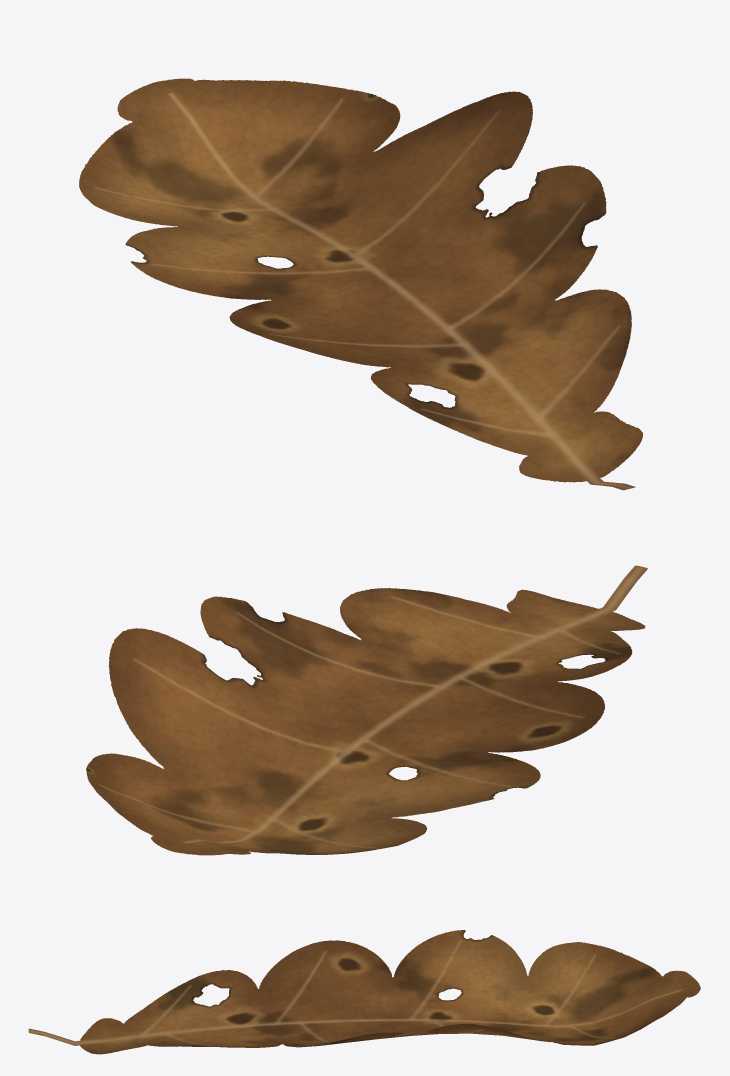
The model's file is Litter_Oak.gltf.
The picture shows the model from 3 angles, top to bottom: view 1: azimuth 30°, elevation 25°; view 2: azimuth 150°, elevation 25°; view 3: azimuth 270°, elevation 25°; orthographic projection. The views are drawn at different scales.
Visible parts, largest first — view 1: Litter_Oak; view 2: Litter_Oak; view 3: Litter_Oak.
Part boxes in pixels (bbox=[...]): Litter_Oak: bbox=[79, 78, 642, 490]; Litter_Oak: bbox=[86, 565, 647, 855]; Litter_Oak: bbox=[28, 930, 700, 1054].
Bounding box in the file's own units: 0.4931 × 0.1567 × 0.9625.
Materials: 1 (1 with a texture image).
